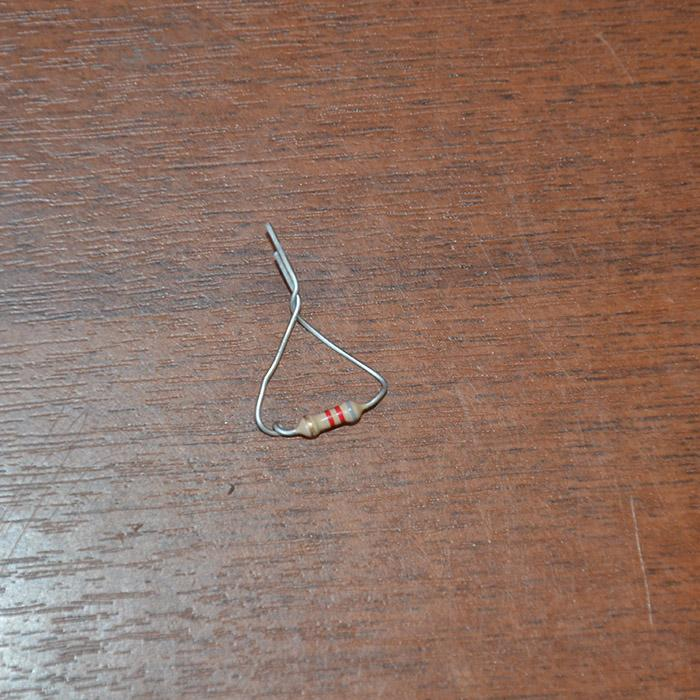resistor: (278, 396, 374, 438)
